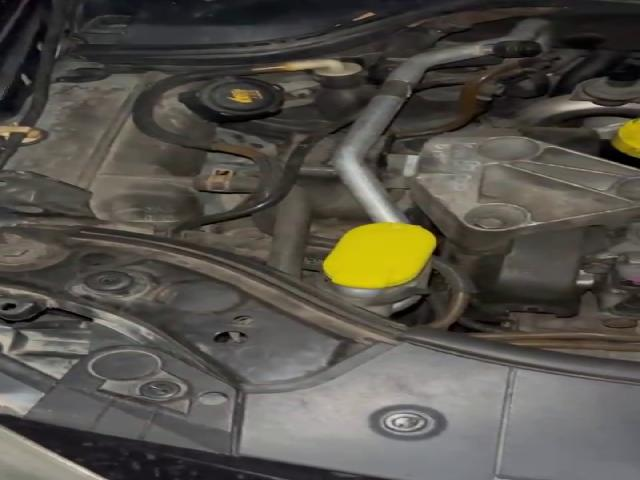antifreeze_tank: (7, 72, 212, 225), (159, 77, 283, 141)
